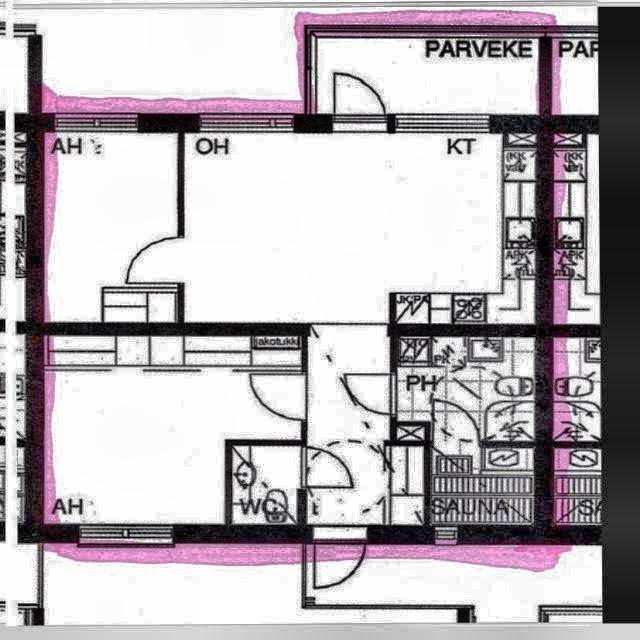room: (45, 336, 302, 524), (44, 132, 179, 323), (396, 336, 535, 441), (430, 448, 534, 525)
